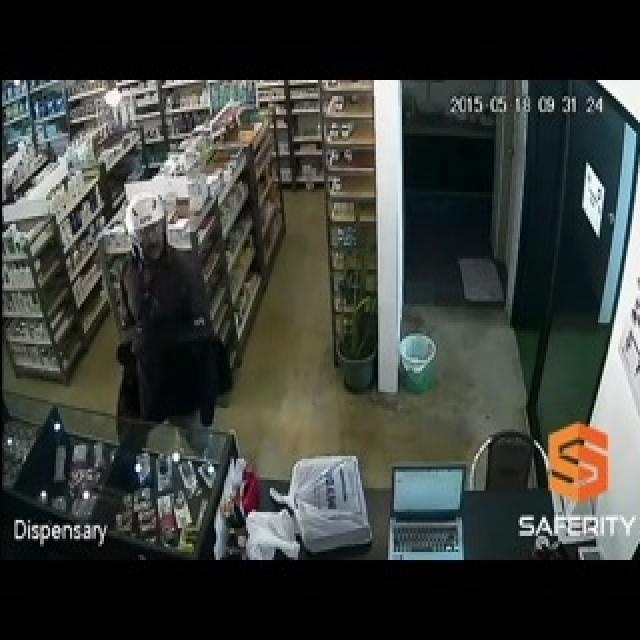thief: (122, 198, 220, 403)
